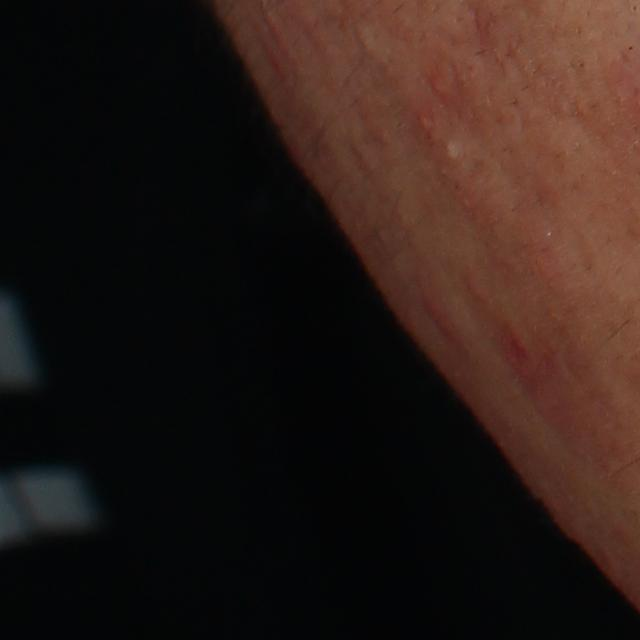papule: (420, 294, 460, 340), (463, 277, 492, 309), (429, 75, 454, 102), (410, 107, 434, 134)
pustule: (441, 136, 468, 165)
